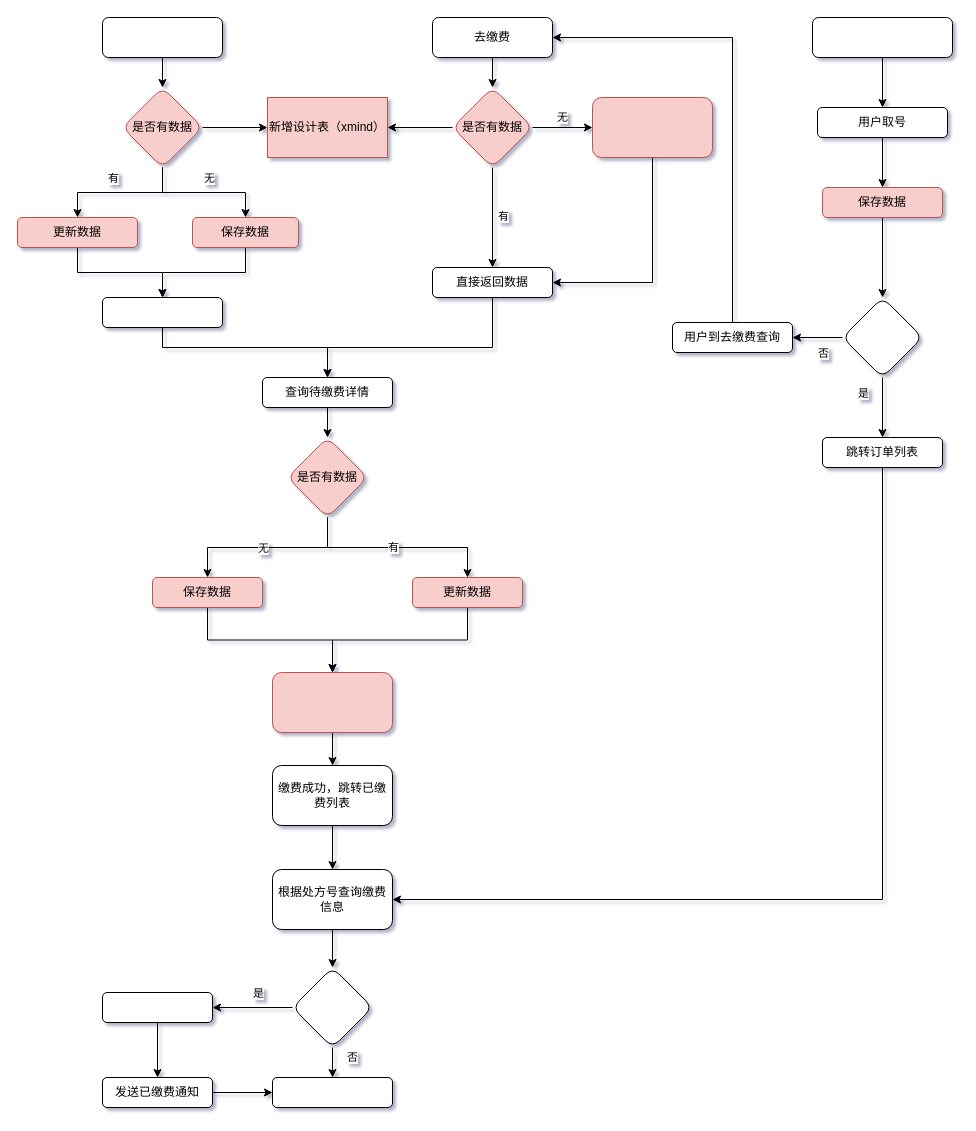
The diagram is 976 pixels wide and 1131 high, and some of its shapes have lost their labels. Each missing label, with the centre of its shape:
"发送待缴费消息" goes at (x=162, y=312).
"待缴费消息" goes at (x=162, y=37).
"插入支付表" goes at (x=157, y=1007).
"是否已缴费" goes at (x=332, y=1007).
"是否支付" goes at (x=882, y=337).
"查询业务系统数据，并保存进数据库" goes at (x=652, y=127).
"核酸开单与一般诊疗费" goes at (x=882, y=37).
"点击缴费，更新数据库数据" goes at (x=332, y=702).
"结束" goes at (x=332, y=1092).
